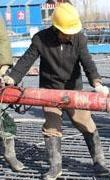boots: (41, 135, 67, 179), (0, 130, 23, 170)
gloves: (0, 63, 10, 81), (0, 69, 8, 80)
hard-hat: (51, 1, 82, 34)
ppe-suit: (1, 0, 1, 1)
